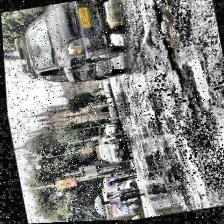pothole: (152, 0, 192, 82), (186, 46, 214, 114)
